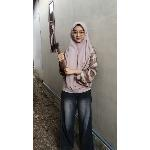Kapak: (49, 42, 67, 72)
